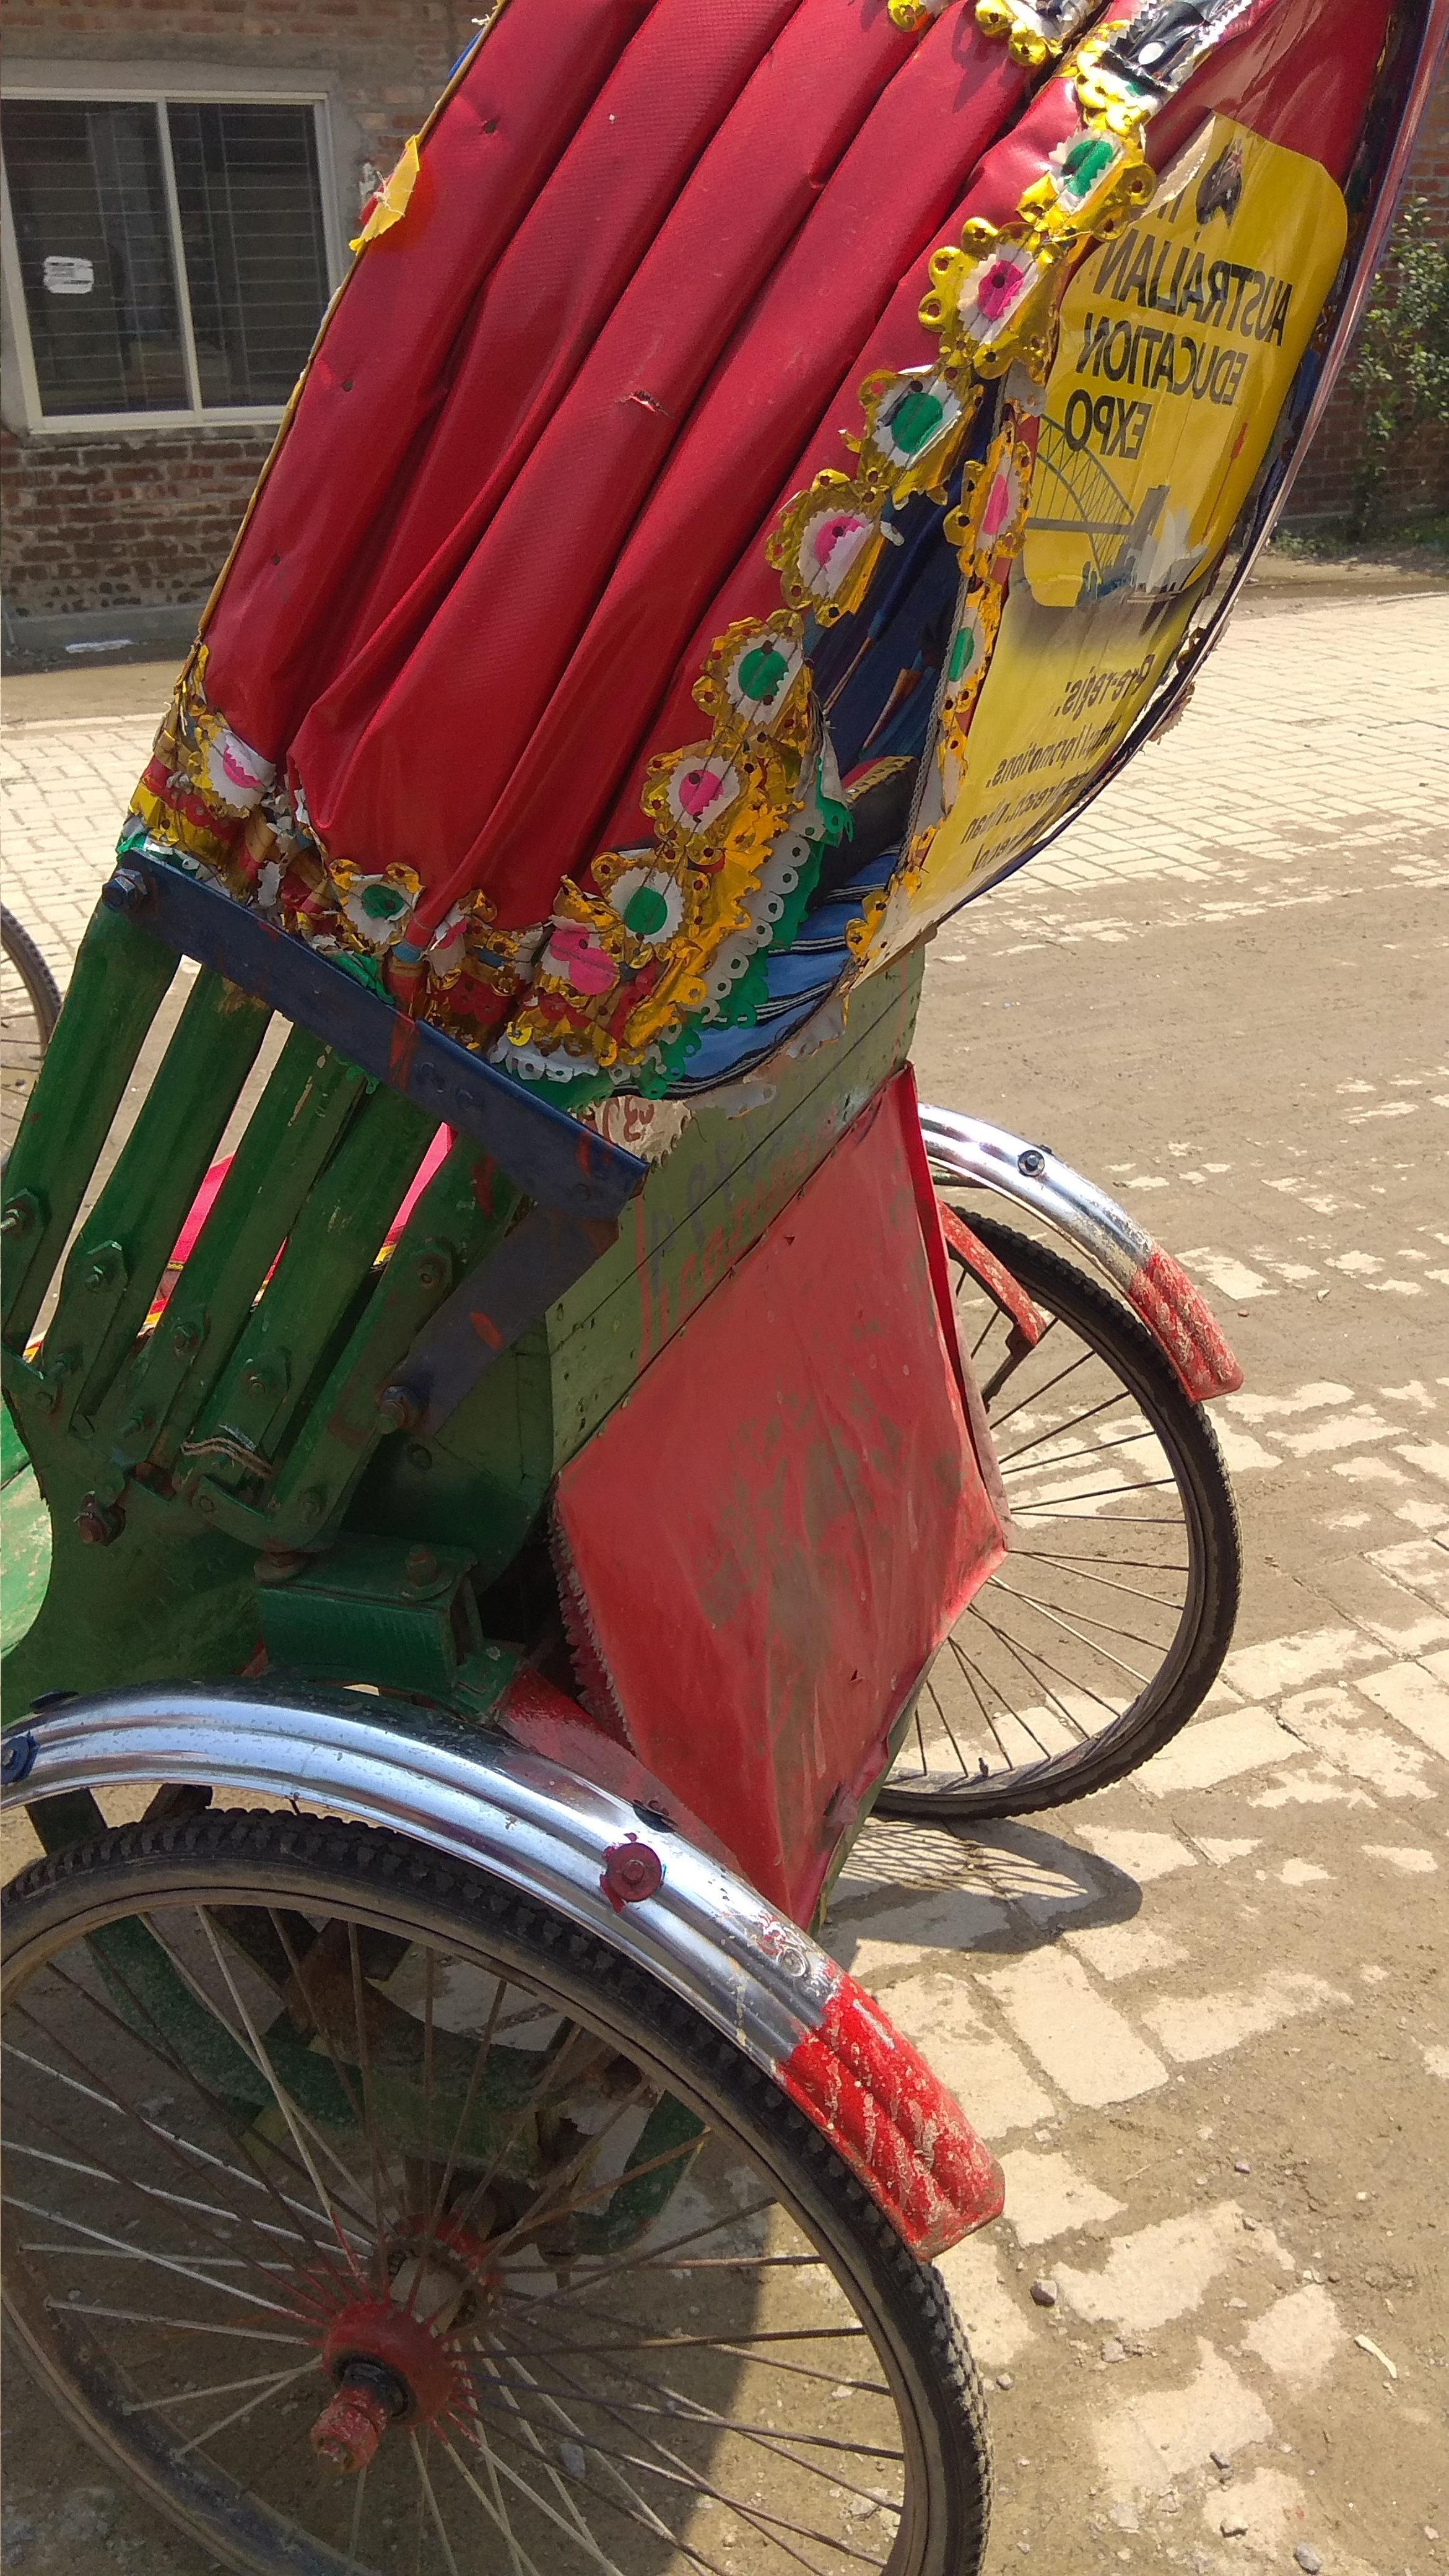Rickshaw: (19, 11, 1444, 2357)
